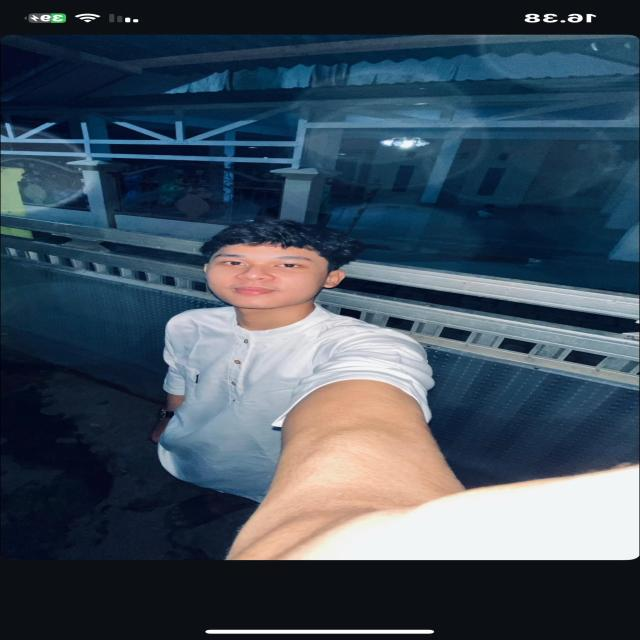nohelmet: (196, 212, 354, 315)
